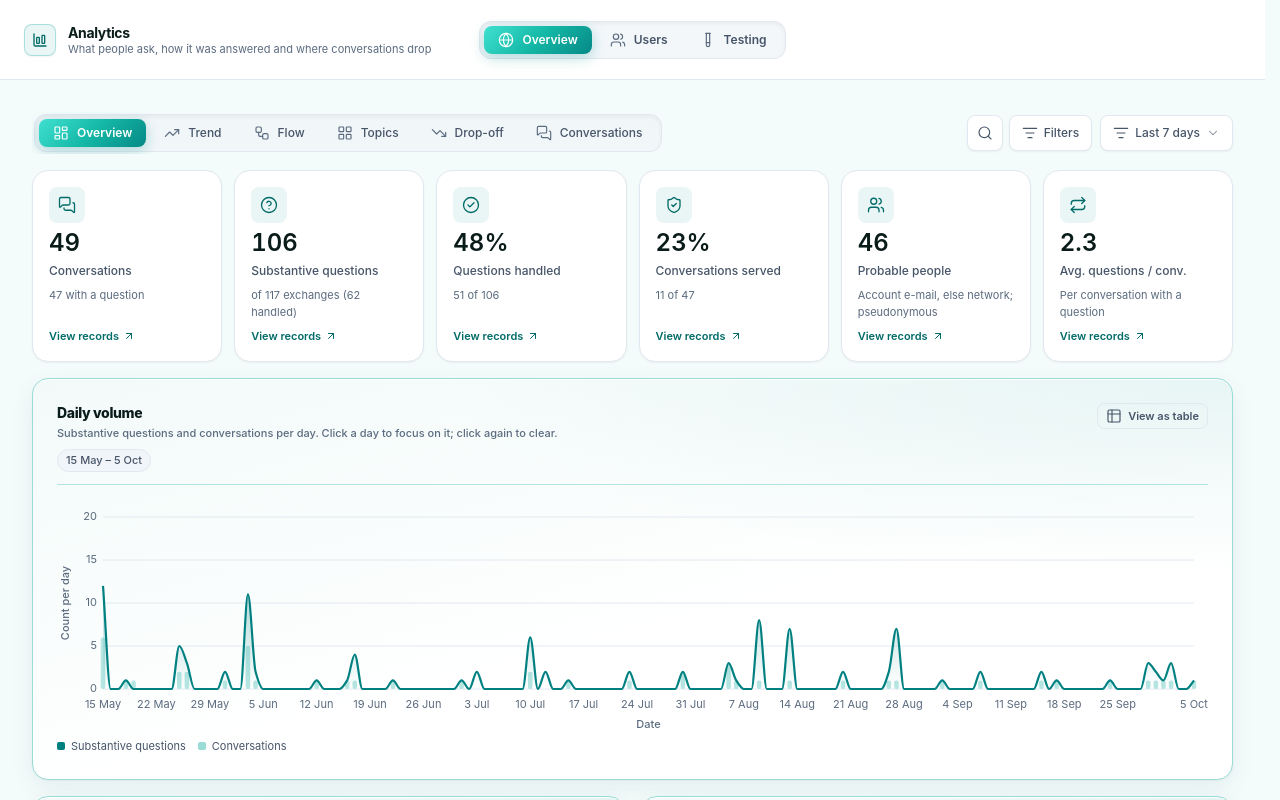
Test: Analytics with the global date range › shows the header picker and no Period select
Click the button "Filters". click: (1050, 133)
box: [1009,115,1092,151]
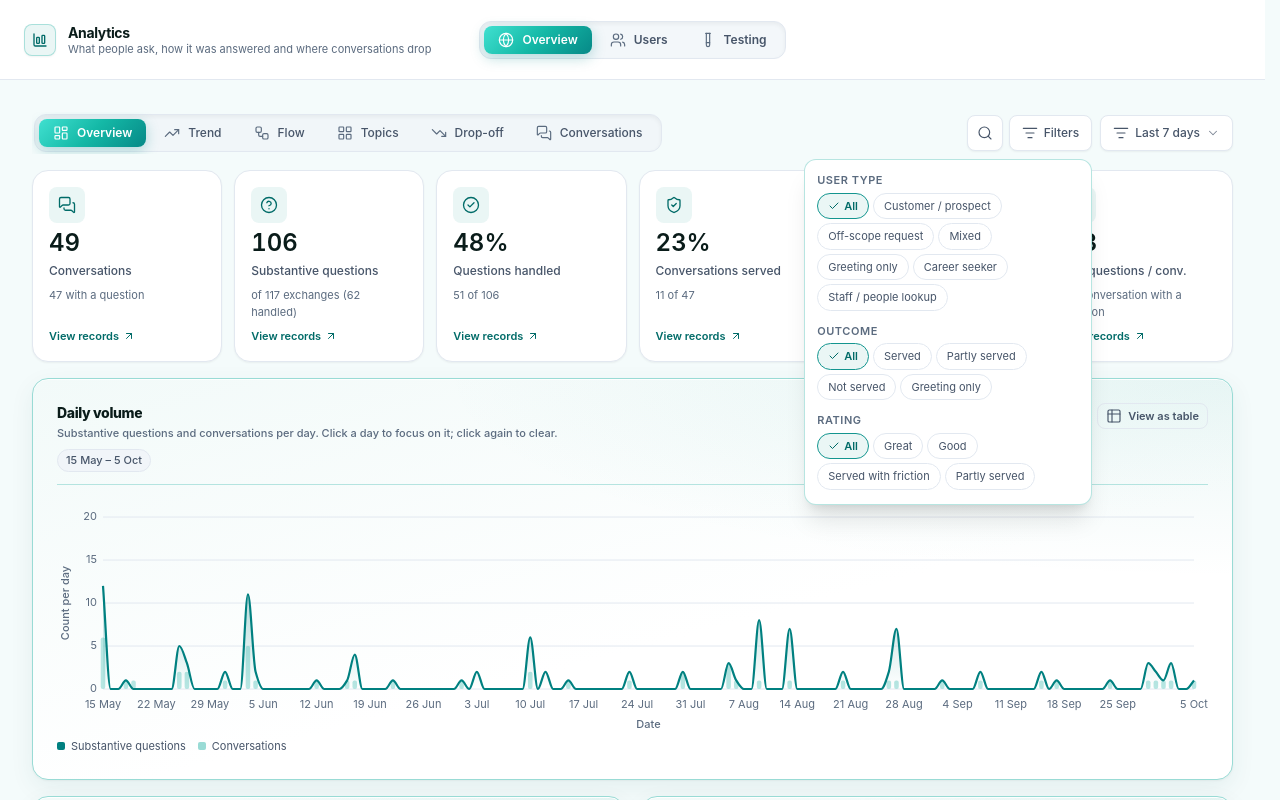
Expected: the element "Outcome" is shown, [817,324,1027,400]
